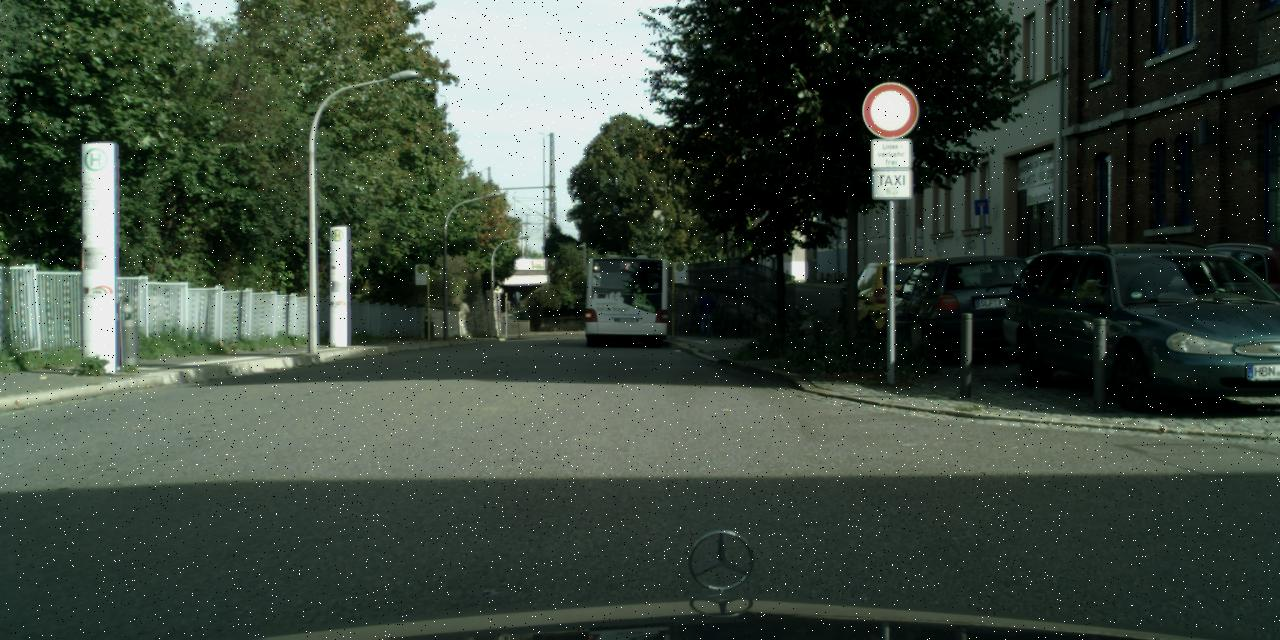ped: (696, 289, 715, 336)
